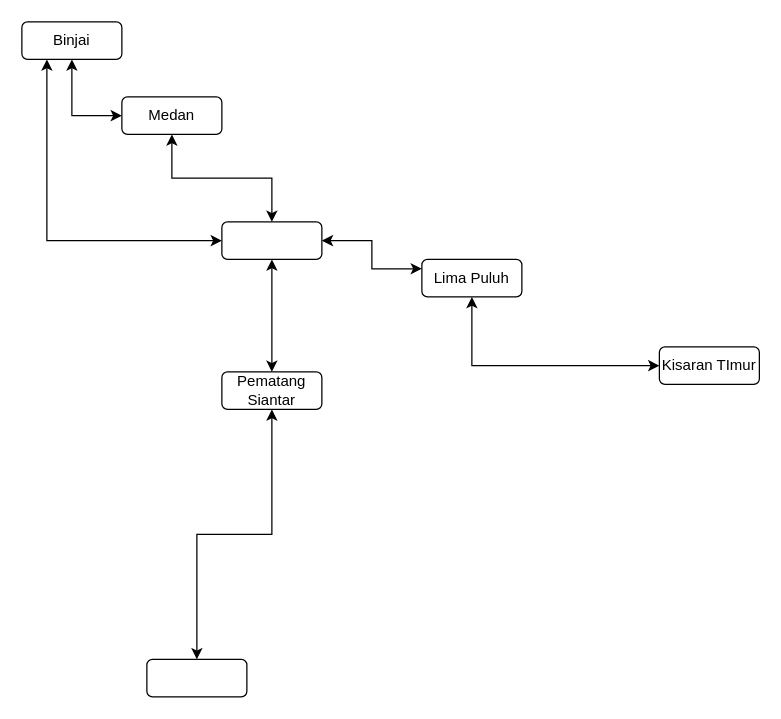
The diagram is 781 pixels wide and 719 high, and some of its shapes have lost their labels. Each missing label, with the centre of its shape:
"Belige" goes at (x=196, y=677).
"Tebing Tinggi" goes at (x=271, y=240).
